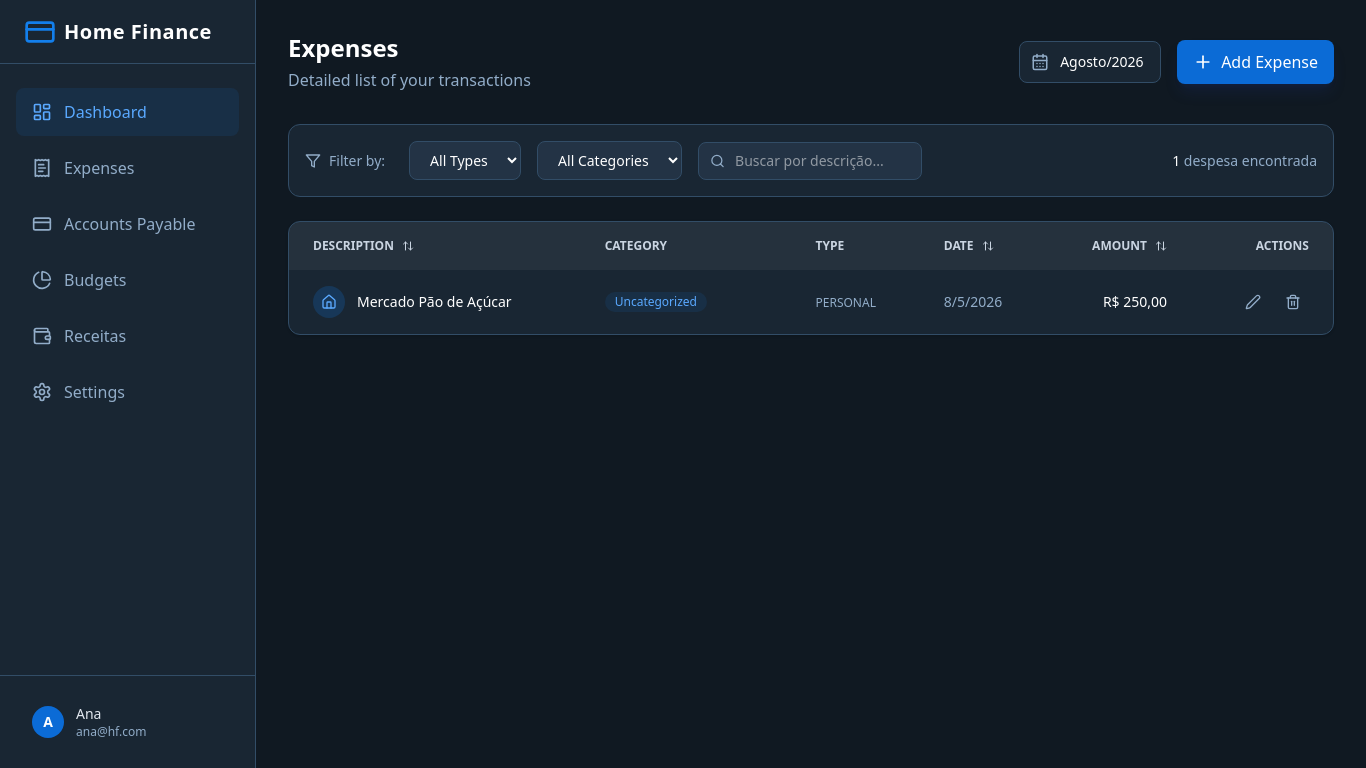
Scenario: Expenses (integração) › busca por descrição sem resultado mostra empty de busca
Expected: the text "Mercado Pão de Açúcar" is shown, [357,292,512,312]
Type "zzz" into the field with placeholder "Buscar por descrição..." at {"x": 810, "y": 160}, box [698,142,922,180]
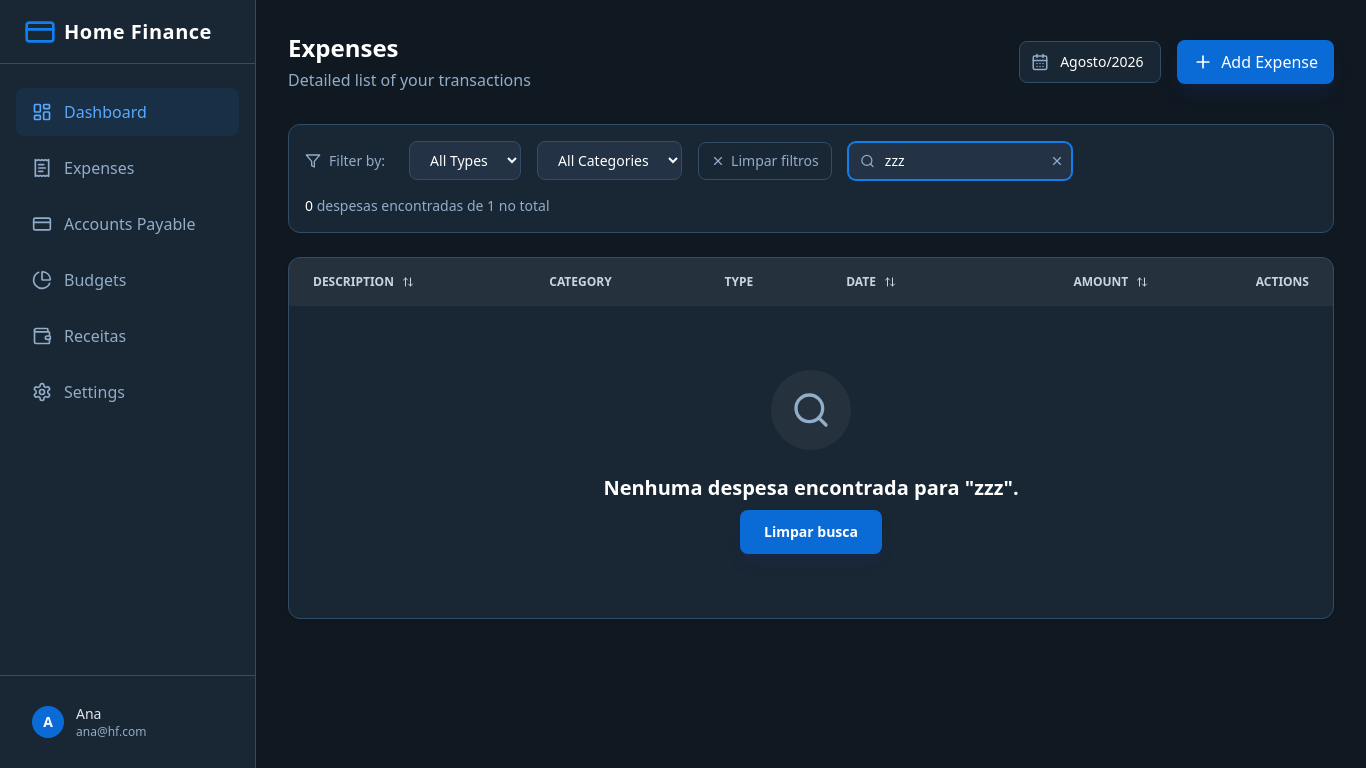
Now the heading "Nenhuma despesa encontrada para \"zzz\"." is shown, box [603,474,1019,502]
limpar a busca restaura a lista
Click the button "Limpar busca" at {"x": 811, "y": 532}, box [740,510,882,554]
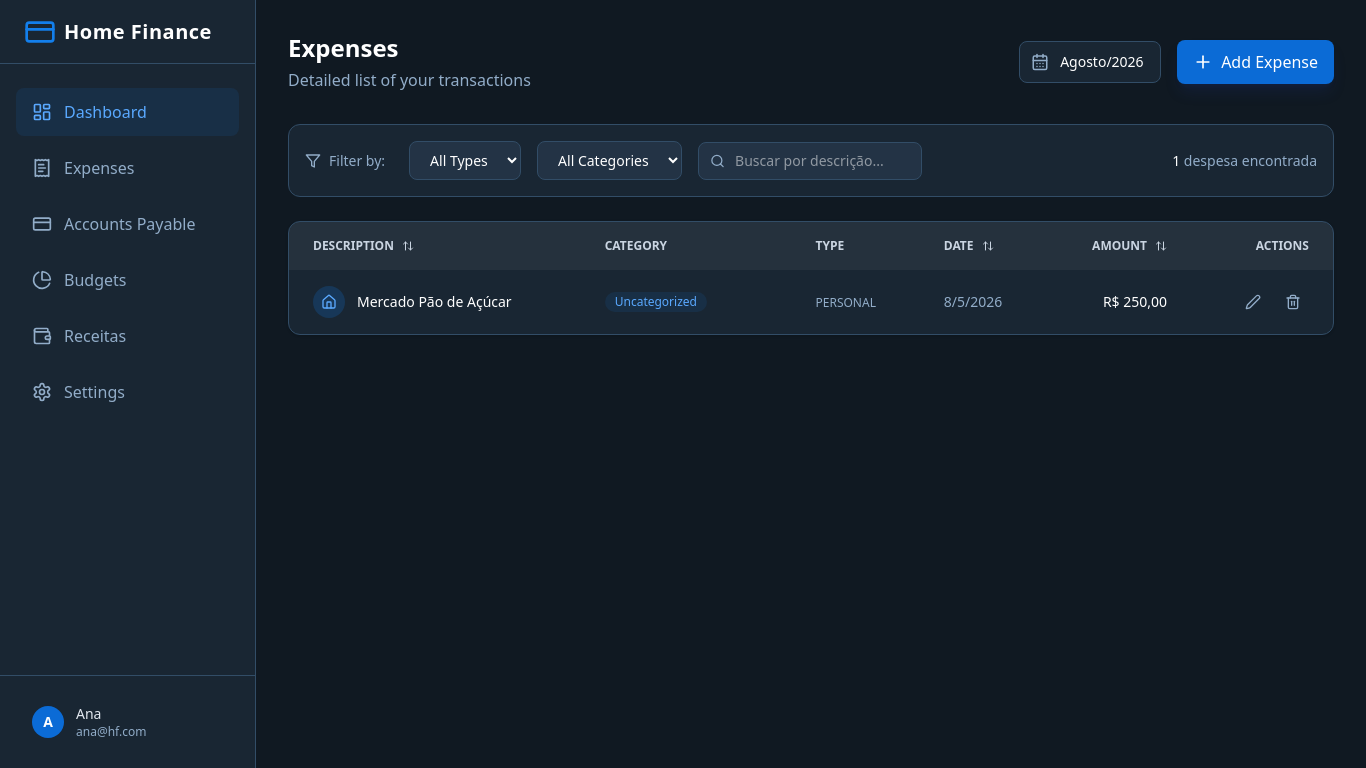
Now the text "Mercado Pão de Açúcar" is shown, box [357,292,512,312]
